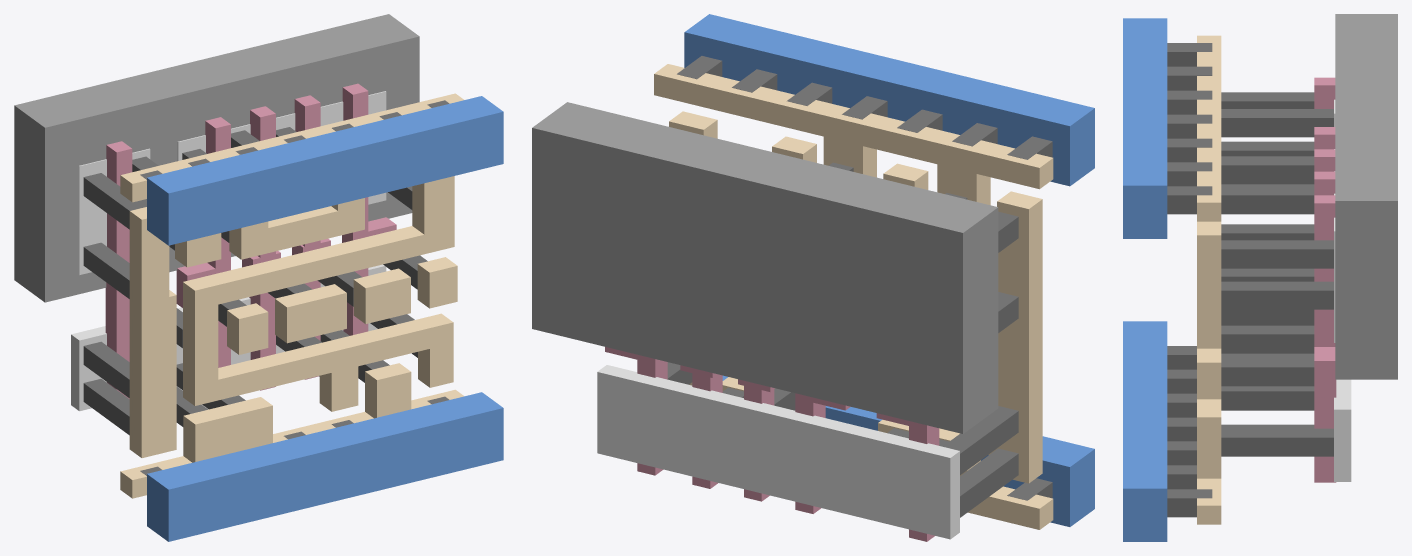
Rendered from sky130_fd_sc_hd__a211o_1.gds.gltf.
3 views of the same model, side by side, from view 1: azimuth 30°, elevation 25°; view 2: azimuth 150°, elevation 25°; view 3: azimuth 270°, elevation 25° (orthographic). The views are drawn at different scales.
Parts seen in each view (by area): view 1: sky130_fd_sc_hd__a211o_1_li1, sky130_fd_sc_hd__a211o_1_met1, sky130_fd_sc_hd__a211o_1_nwell, sky130_fd_sc_hd__a211o_1_licon, sky130_fd_sc_hd__a211o_1_poly, sky130_fd_sc_hd__a211o_1_diff, sky130_fd_sc_hd__a211o_1_mcon; view 2: sky130_fd_sc_hd__a211o_1_nwell, sky130_fd_sc_hd__a211o_1_diff, sky130_fd_sc_hd__a211o_1_li1, sky130_fd_sc_hd__a211o_1_met1, sky130_fd_sc_hd__a211o_1_licon, sky130_fd_sc_hd__a211o_1_mcon, sky130_fd_sc_hd__a211o_1_poly; view 3: sky130_fd_sc_hd__a211o_1_licon, sky130_fd_sc_hd__a211o_1_nwell, sky130_fd_sc_hd__a211o_1_met1, sky130_fd_sc_hd__a211o_1_mcon, sky130_fd_sc_hd__a211o_1_li1, sky130_fd_sc_hd__a211o_1_poly, sky130_fd_sc_hd__a211o_1_diff.
Boxes of the visible parts, x1,y1,x2,y2 form: sky130_fd_sc_hd__a211o_1_li1: (120, 93, 463, 498); sky130_fd_sc_hd__a211o_1_met1: (147, 96, 503, 541); sky130_fd_sc_hd__a211o_1_nwell: (14, 14, 419, 302); sky130_fd_sc_hd__a211o_1_licon: (83, 127, 427, 435); sky130_fd_sc_hd__a211o_1_poly: (105, 83, 396, 398); sky130_fd_sc_hd__a211o_1_diff: (71, 91, 386, 411); sky130_fd_sc_hd__a211o_1_mcon: (140, 100, 449, 475); sky130_fd_sc_hd__a211o_1_nwell: (532, 102, 998, 433); sky130_fd_sc_hd__a211o_1_diff: (597, 365, 959, 539); sky130_fd_sc_hd__a211o_1_li1: (654, 64, 1053, 529); sky130_fd_sc_hd__a211o_1_met1: (684, 14, 1094, 526); sky130_fd_sc_hd__a211o_1_licon: (667, 162, 1018, 517); sky130_fd_sc_hd__a211o_1_mcon: (677, 56, 1052, 500); sky130_fd_sc_hd__a211o_1_poly: (605, 347, 939, 541); sky130_fd_sc_hd__a211o_1_licon: (1221, 92, 1333, 456); sky130_fd_sc_hd__a211o_1_nwell: (1335, 14, 1397, 379); sky130_fd_sc_hd__a211o_1_met1: (1123, 18, 1167, 541); sky130_fd_sc_hd__a211o_1_mcon: (1167, 43, 1212, 517); sky130_fd_sc_hd__a211o_1_li1: (1197, 35, 1221, 524); sky130_fd_sc_hd__a211o_1_poly: (1314, 77, 1336, 482); sky130_fd_sc_hd__a211o_1_diff: (1334, 99, 1351, 481).
Bounding box in the file's own units: 3.6 × 3.2 × 2.24.
